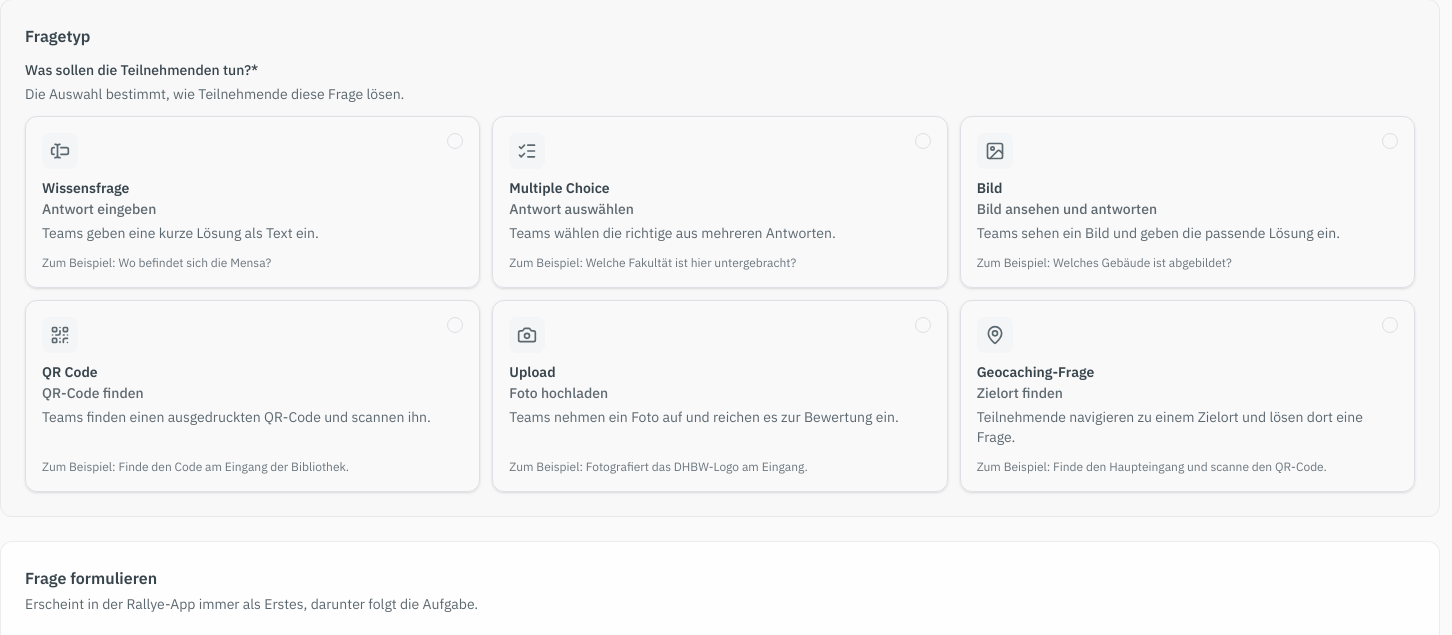
Scenario: QuestionForm › resets solution options when changing to multiple choice
Click the 1st radio button named "Antwort eingeben" at (455, 141), box [447, 133, 463, 149]
(page scrolled)
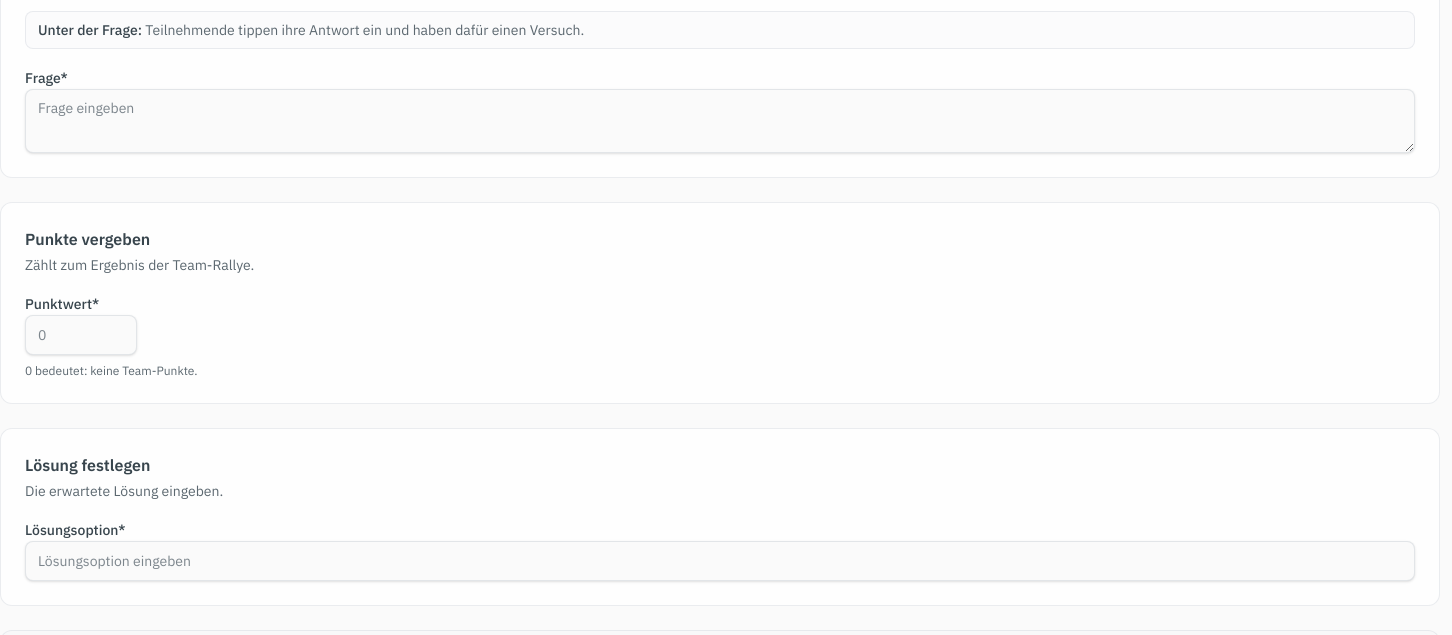
Type "Bestehende Lösung" into the field with placeholder "Lösungsoption eingeben" at (720, 561), box [25, 541, 1415, 581]
(page scrolled)
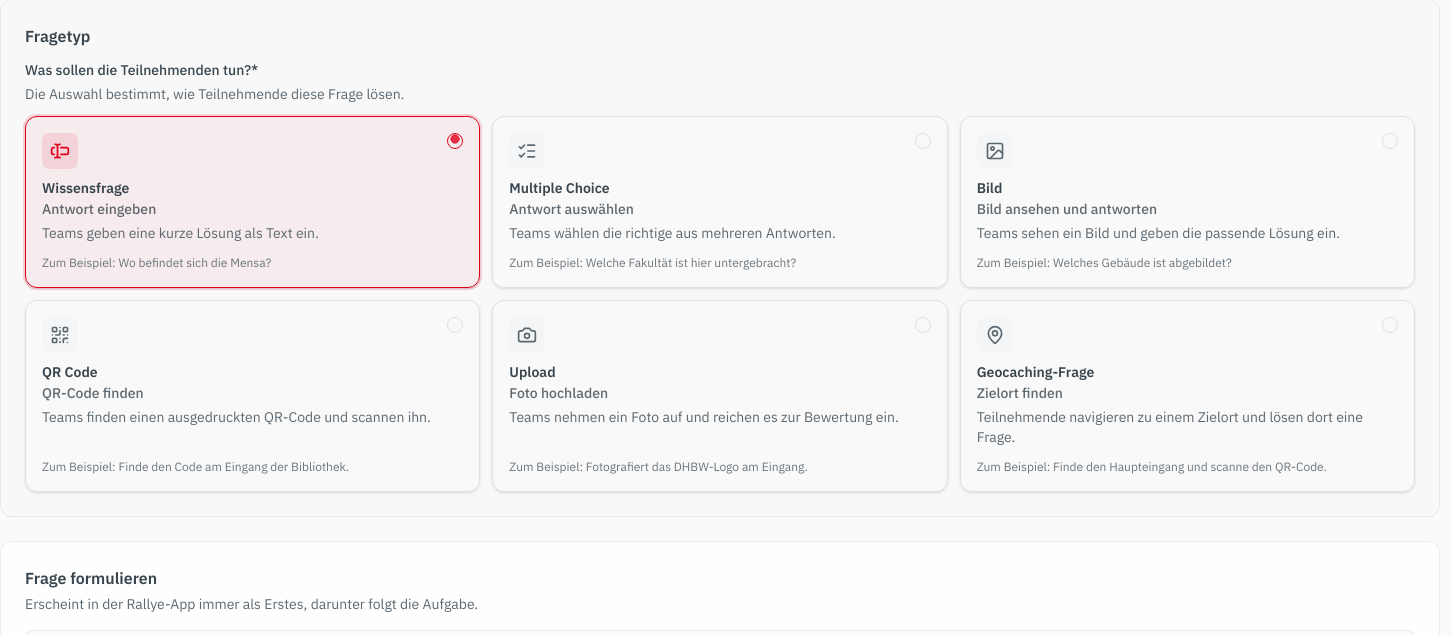
Click the 2nd radio button named "Antwort auswählen" at (923, 141), box [915, 133, 931, 149]
(page scrolled)
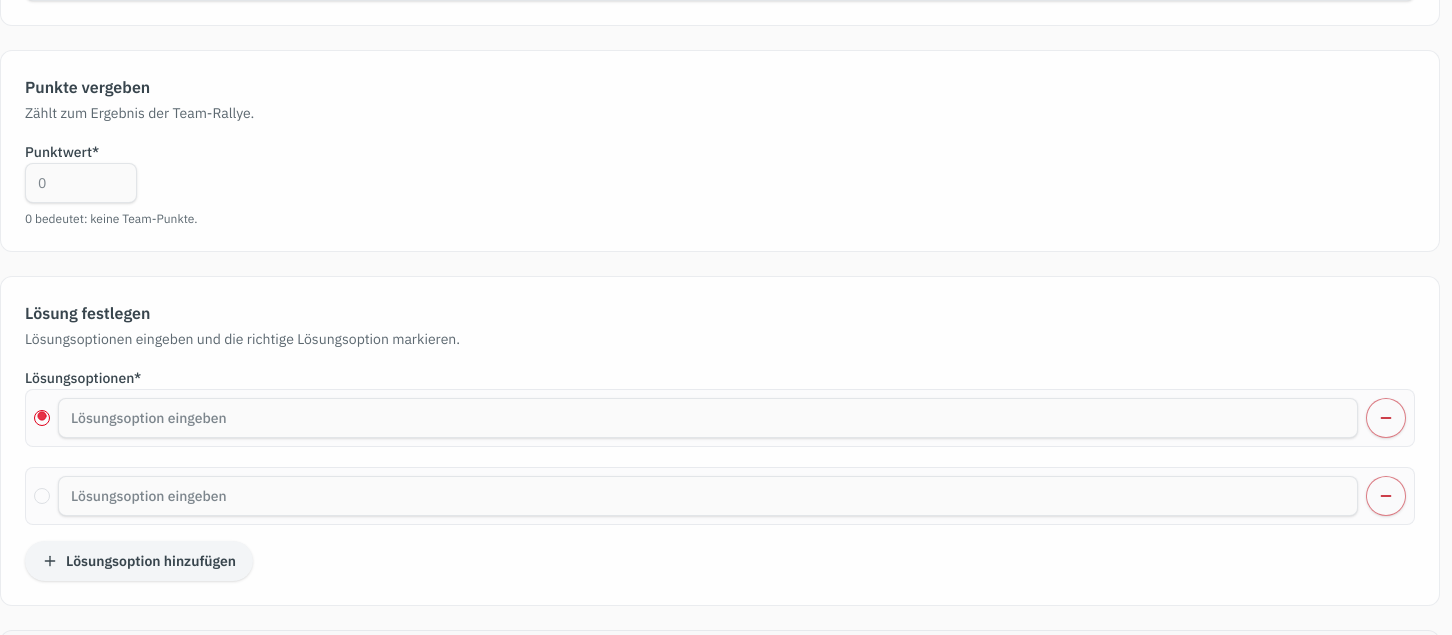
Now the number of fields with placeholder "Lösungsoption eingeben" is 2, box [58, 398, 1358, 438]; [58, 476, 1358, 516]
Now the 1st field with placeholder "Lösungsoption eingeben" is empty, box [58, 398, 1358, 438]
Now the 2nd field with placeholder "Lösungsoption eingeben" is empty, box [58, 476, 1358, 516]
